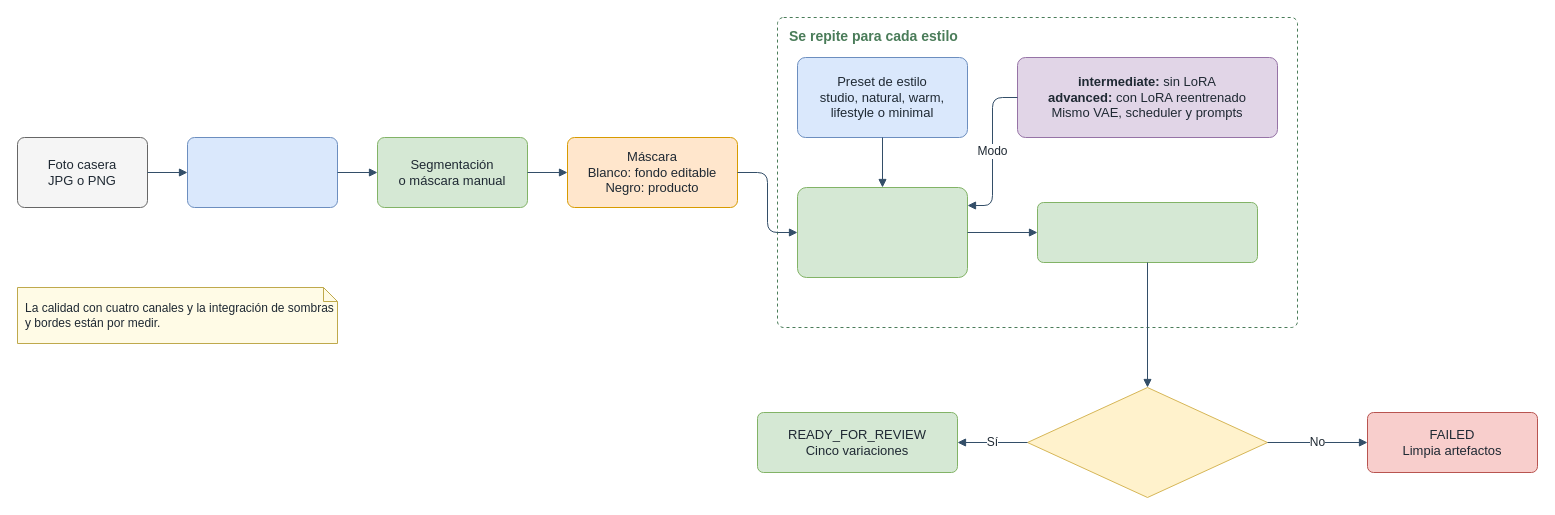
This 1555x515 diagram has some shape labels left out. The shapes that lost their labels are listed below. From the top down, each one's centre as x and y in pixels, then its label:
the point at 262,172: Lienzo de trabajo Original preservado
the point at 882,232: SDXL base Pipeline de inpainting de cuatro canales
the point at 1147,232: Recomponer el producto con sus píxeles
the point at 1147,442: ¿Cinco archivos, registros y estilos distintos?
